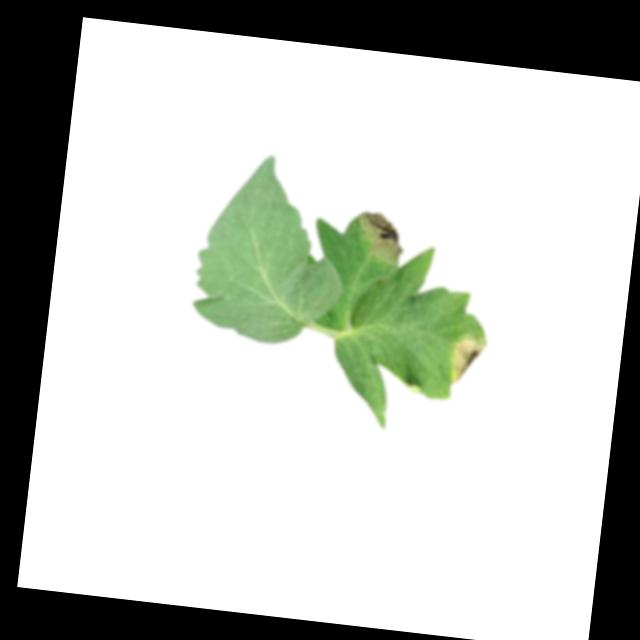Late_blight: (354, 208, 407, 268), (447, 333, 490, 387)
healthy: (187, 147, 355, 352)
